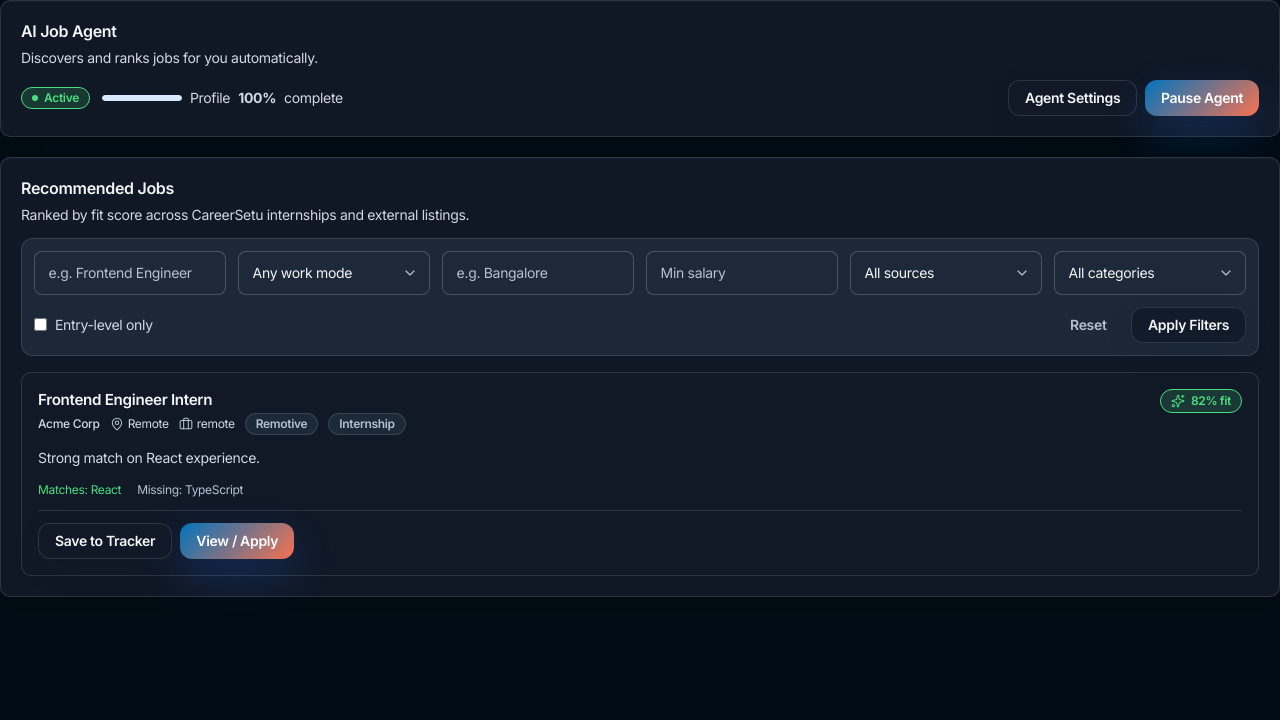
Test: JobAgentDashboardPage › multi-source filters and provider health › Reset clears every filter and re-fetches the unfiltered feed
This screenshot has width=1280, height=720.
Expected: the text "Frontend Engineer Intern" is shown, [38,390,212,409]
Type "Backend" into the field with placeholder "e.g. Frontend Engineer".
click(130, 273); type("Backend")  # box [34,251,226,295]
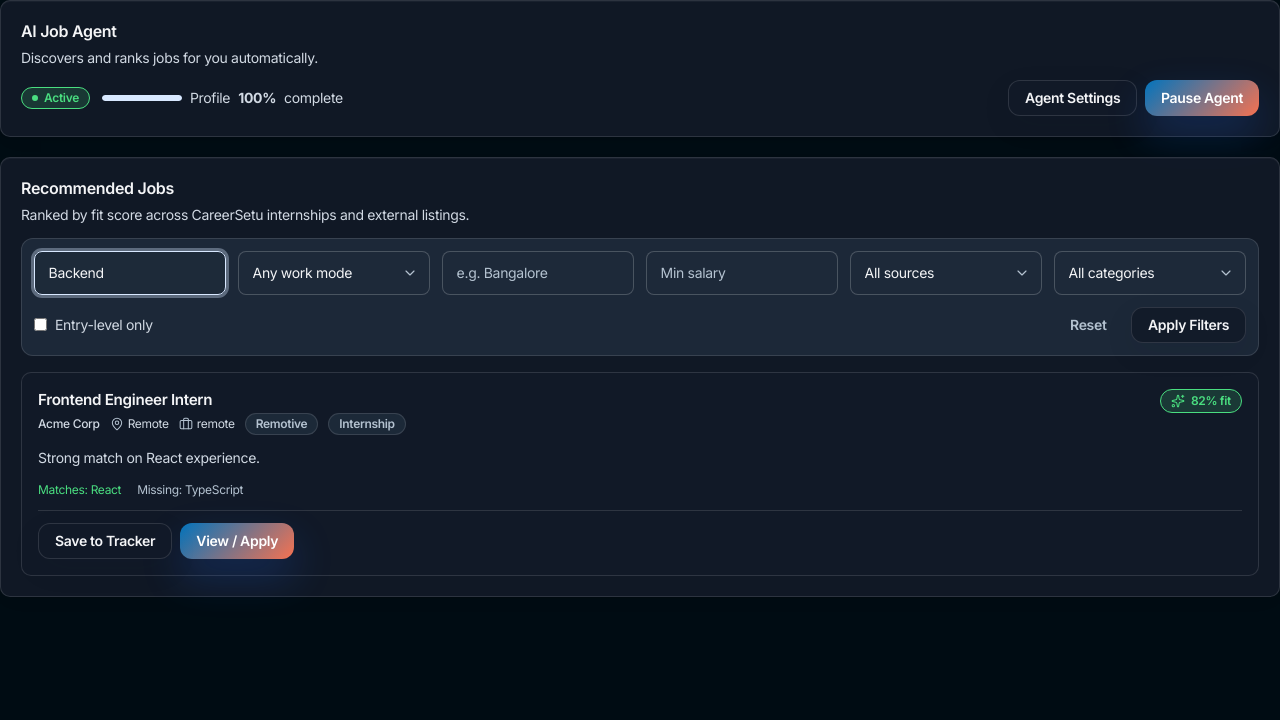
Select "Remote" in the dropdown named "Work mode" at (334, 273), box [238,251,430,295]
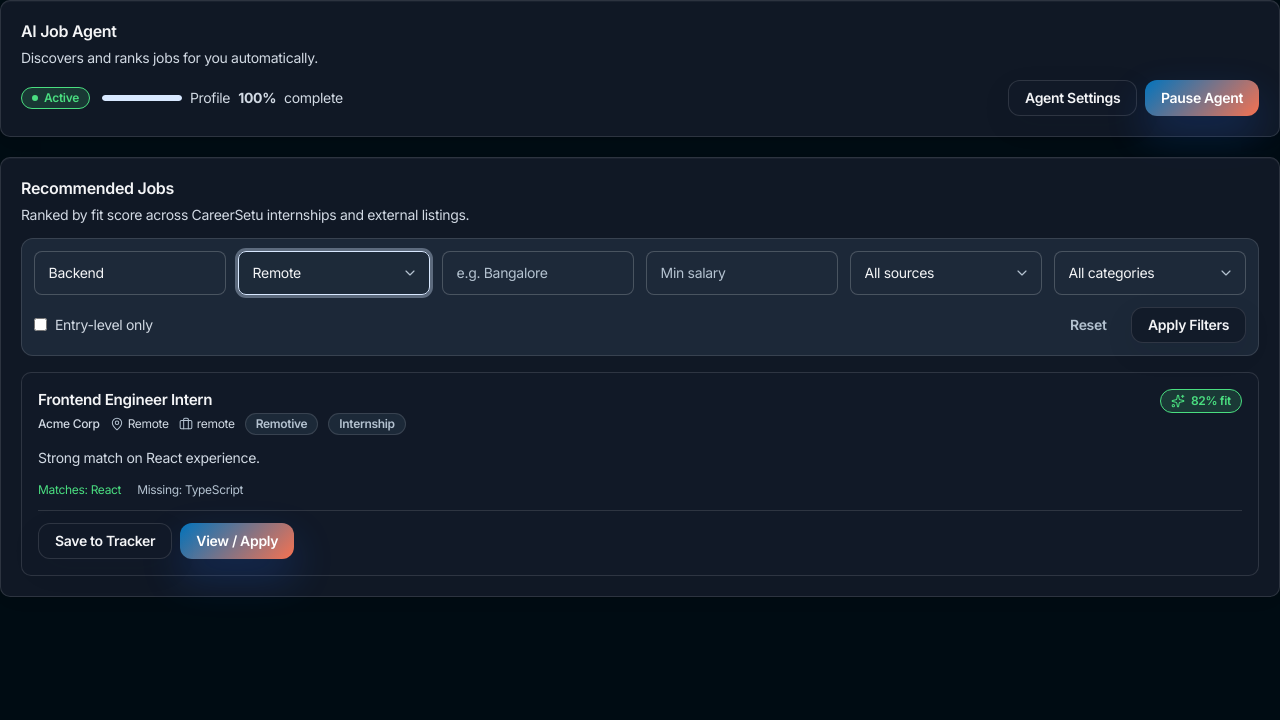
Click the button "Reset".
click(1089, 325)  # box [1054,307,1123,343]
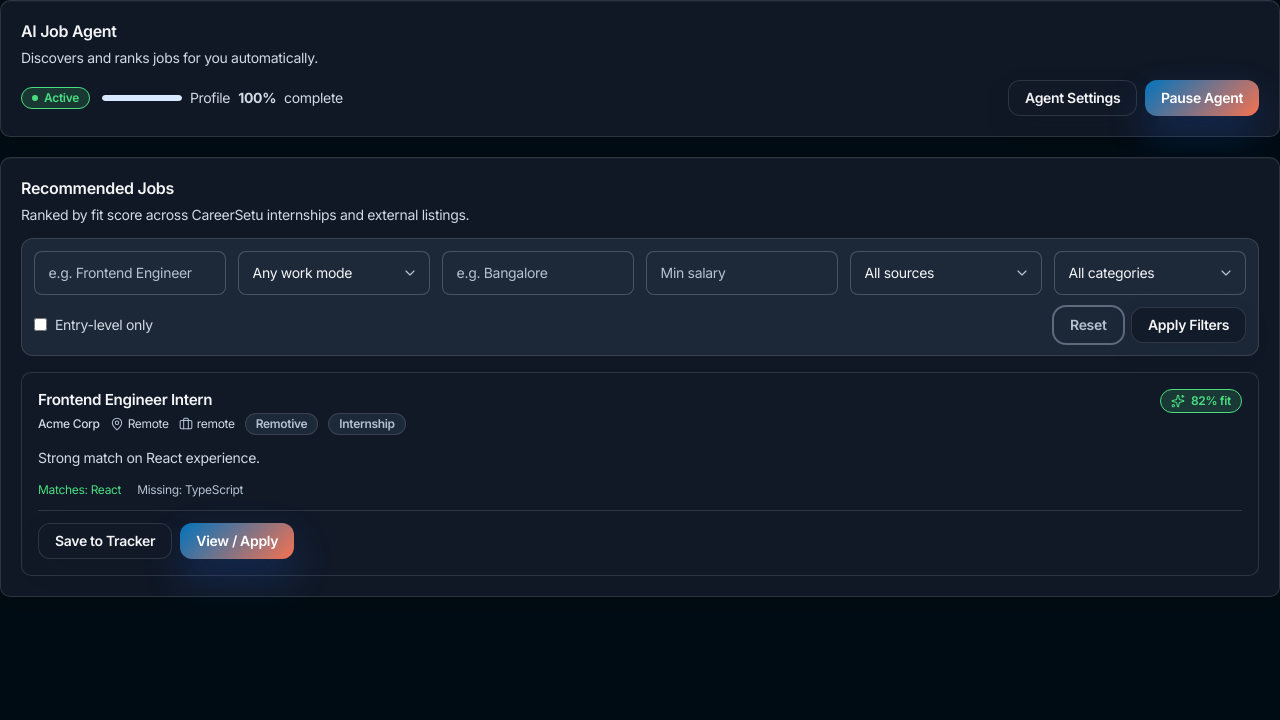
Result: the field with placeholder "e.g. Frontend Engineer" is empty at [34,251,226,295]
